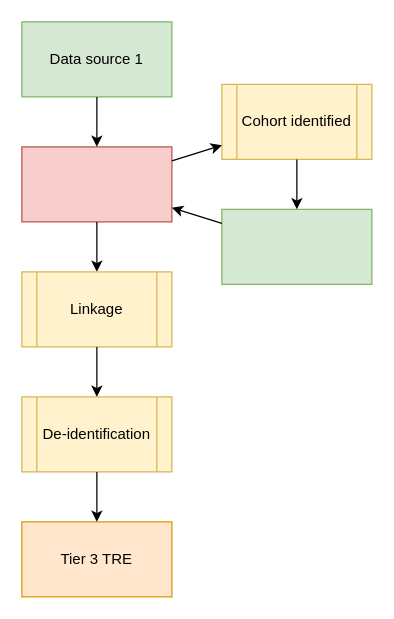
This 394x619 diagram has some shape labels left out. The shapes that lost their labels are listed below. From the top down, each one's centre as x and y in pixels, then its label:
At pixel 96 184: "Tier 4 TRE".
At pixel 296 246: "Data source 2".
